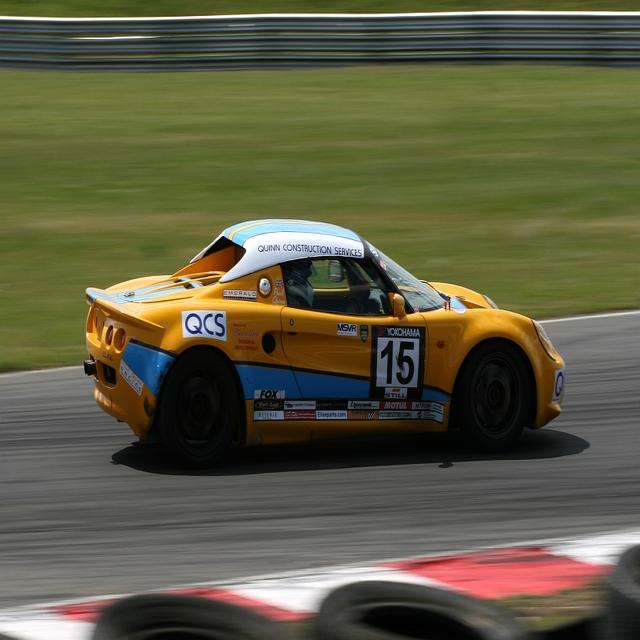car: (83, 215, 564, 472)
